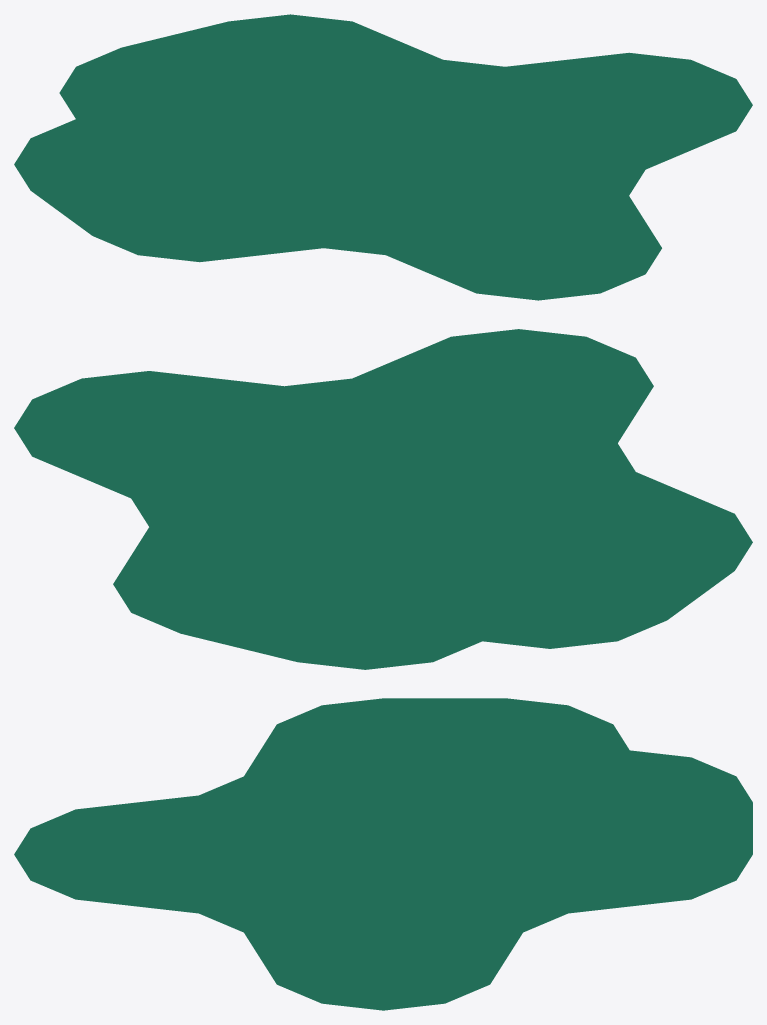
File: patch-grass.glb
3 views of the same model, one above another, from view 1: azimuth 30°, elevation 25°; view 2: azimuth 150°, elevation 25°; view 3: azimuth 270°, elevation 25° (orthographic). The views are drawn at different scales.
Parts seen in each view (by area): view 1: patch-grass; view 2: patch-grass; view 3: patch-grass.
Part boxes in pixels (x1=…): patch-grass: x1=14, y1=14, x2=752, y2=300; patch-grass: x1=14, y1=329, x2=752, y2=669; patch-grass: x1=14, y1=698, x2=752, y2=1010.
Bounding box in the file's own units: 1.2 × 0 × 1.2.
